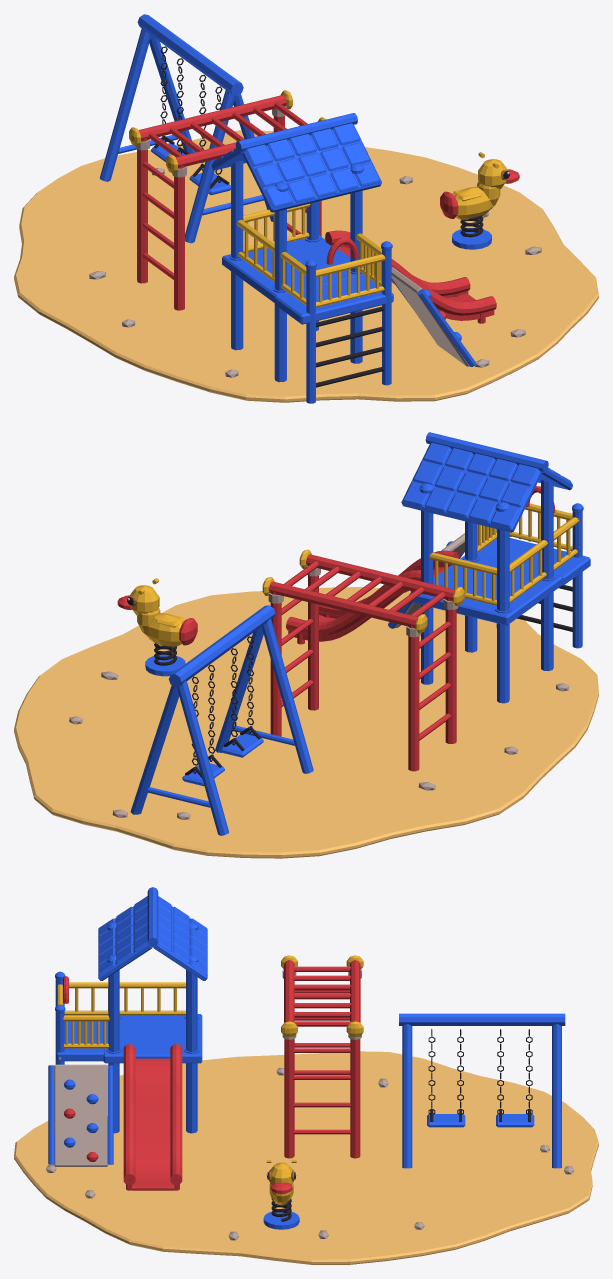
Rendered from kit.playground.glb.
3 renders of one model, top to bottom at view 1: azimuth 30°, elevation 25°; view 2: azimuth 150°, elevation 25°; view 3: azimuth 270°, elevation 25°, orthographic. The views are drawn at different scales.
Size of the model in its own units: 8.3 by 3.83 by 9.77.
